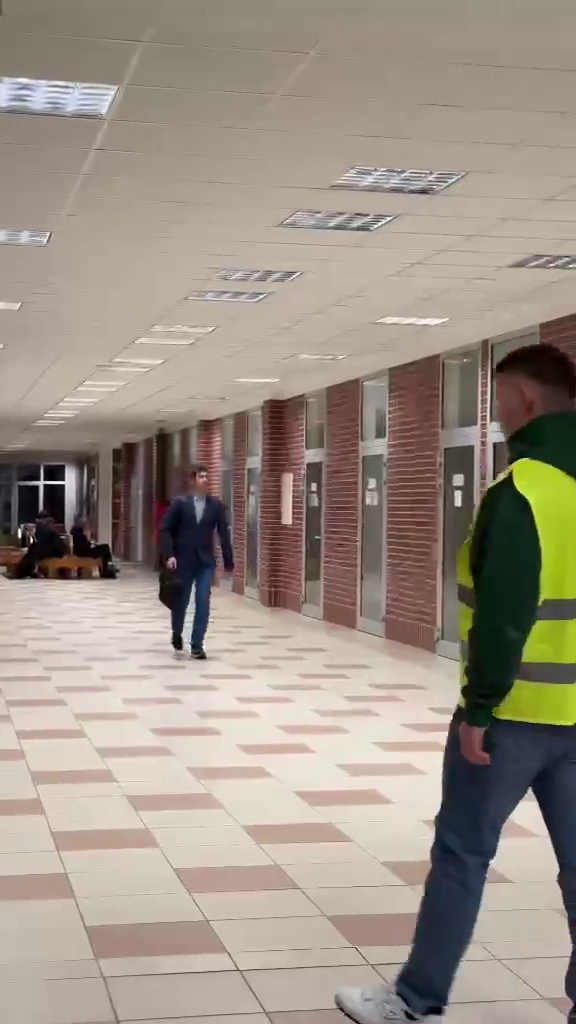no vest: (153, 461, 245, 658)
vest: (396, 329, 576, 1024)
